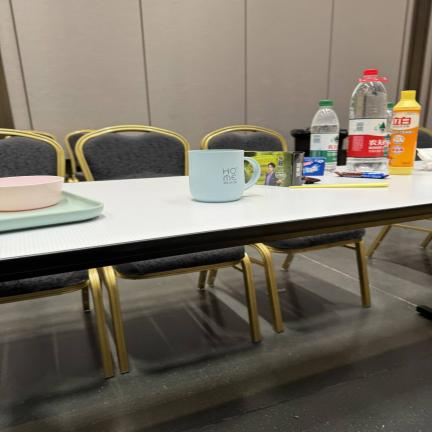cup: (188, 150, 260, 202)
